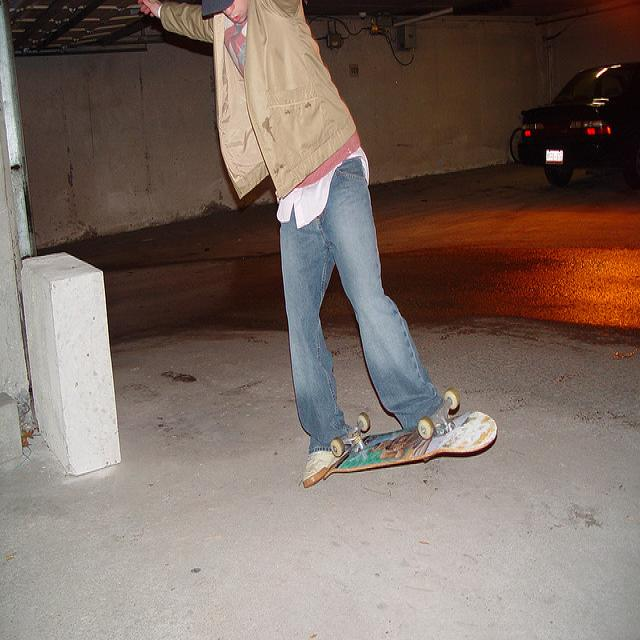Vehicle: (518, 61, 640, 190)
